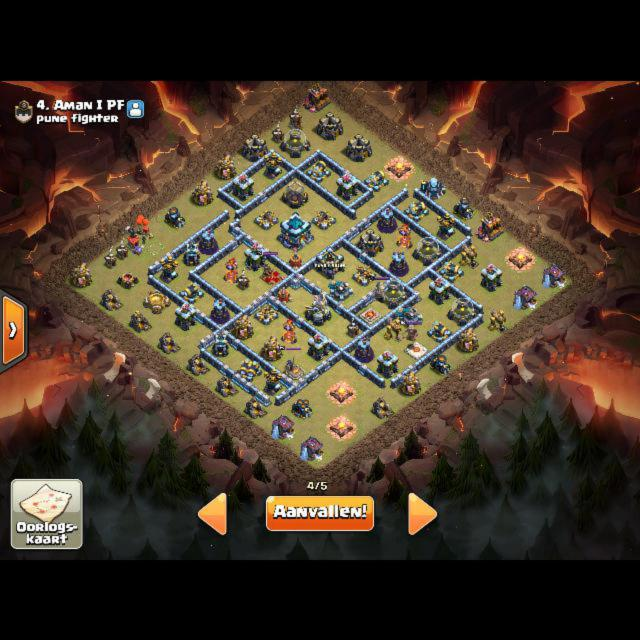AD: (263, 367, 282, 396), (264, 151, 283, 180), (436, 211, 455, 240), (160, 255, 179, 284)
AirSweeper: (286, 246, 304, 270), (275, 285, 293, 305)
BombTower: (212, 330, 228, 356), (183, 239, 199, 265)
Canon: (236, 359, 262, 382), (306, 160, 331, 183), (363, 169, 389, 191), (438, 260, 464, 282), (427, 320, 452, 342), (179, 281, 204, 303), (404, 201, 429, 222)
ClanCastle: (316, 245, 344, 277)
Eagle: (305, 291, 332, 325)
Inferno: (281, 318, 297, 343), (223, 258, 239, 283), (397, 223, 412, 248)
KingPad: (360, 306, 381, 322)
Mortar: (452, 197, 474, 220), (163, 206, 185, 228), (430, 353, 451, 375), (291, 398, 312, 418)
QueenPad: (261, 268, 284, 285)
RcPad: (286, 364, 304, 378)
Scattershot: (396, 306, 423, 328), (328, 279, 353, 302)
TH13: (280, 211, 311, 250)
WardenPad: (406, 342, 426, 357)
WizzTower: (355, 336, 374, 362), (210, 297, 229, 323), (389, 250, 408, 275), (378, 207, 396, 232), (199, 229, 217, 254)
Xbow: (253, 302, 279, 324), (352, 264, 377, 286), (312, 209, 337, 230), (254, 209, 279, 229)
